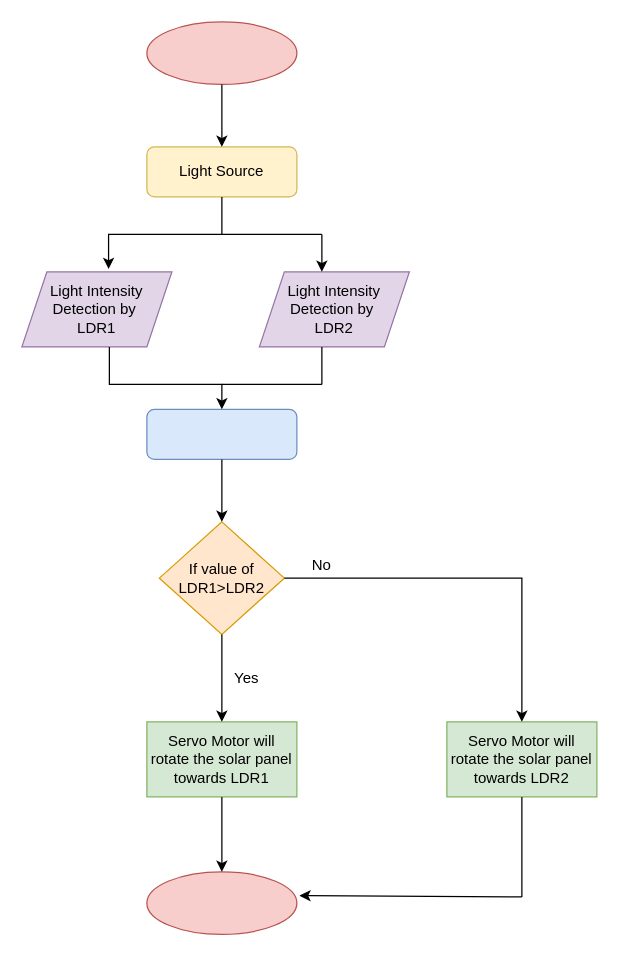
Image size: 619x956. Some labels were removed from this diagram. Each missing label, with the box of its shape:
End: (146, 871, 297, 934)
Program Operation: (146, 408, 297, 459)
Start: (146, 21, 297, 84)
